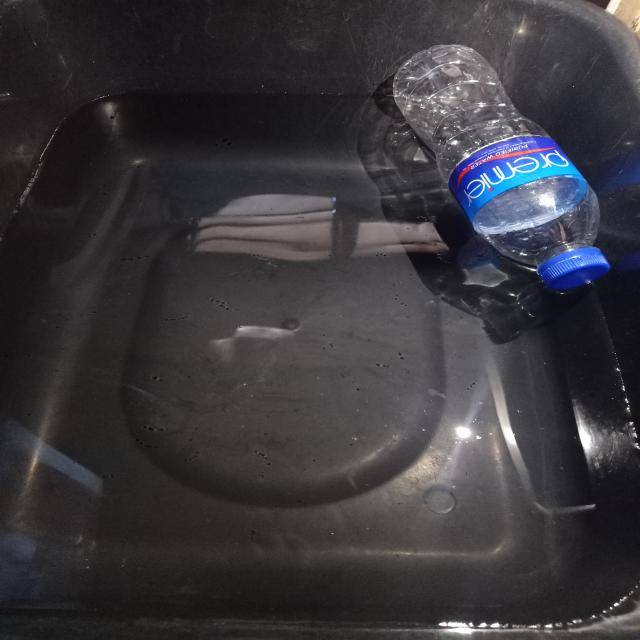Plastic Bottle: (393, 45, 609, 289)
